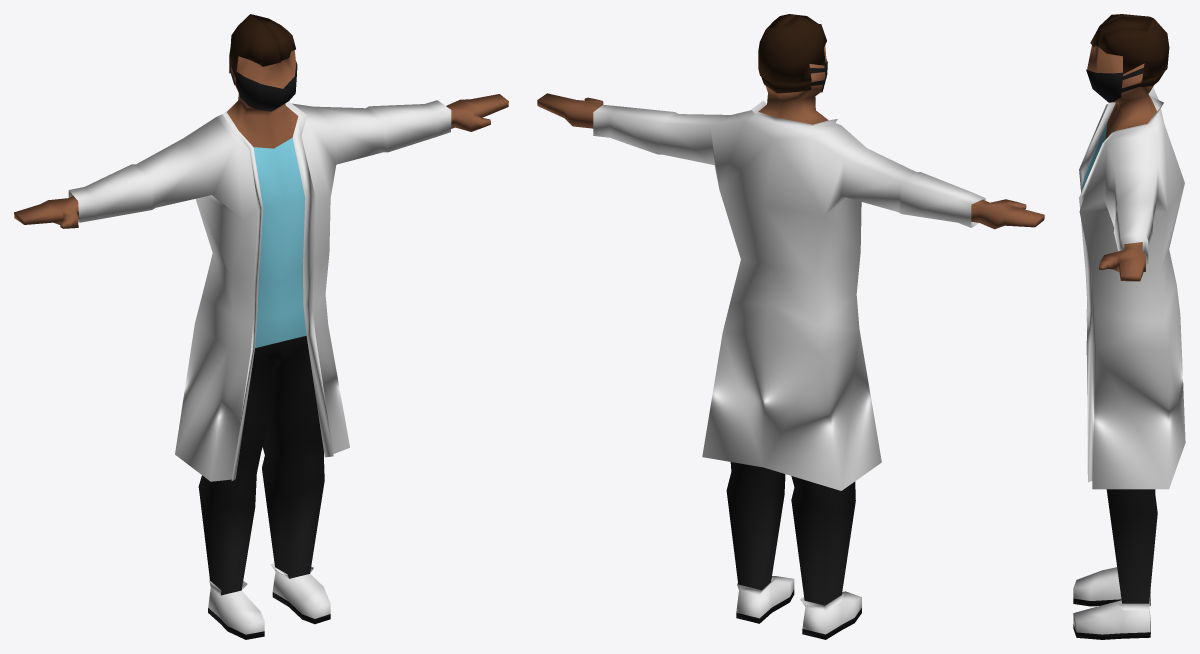
The model's file is doctor.fbx.
3 renders of one model, left to right at view 1: azimuth 30°, elevation 25°; view 2: azimuth 150°, elevation 25°; view 3: azimuth 270°, elevation 25°, orthographic. The views are drawn at different scales.
Visible parts, largest first — view 1: Cube; view 2: Cube; view 3: Cube.
Boxes of the visible parts, bbox=[...] form: Cube: bbox=[14, 14, 508, 639]; Cube: bbox=[537, 14, 1044, 639]; Cube: bbox=[1073, 14, 1185, 639].
Size of the model in its own units: 1271 by 1474 by 250.
